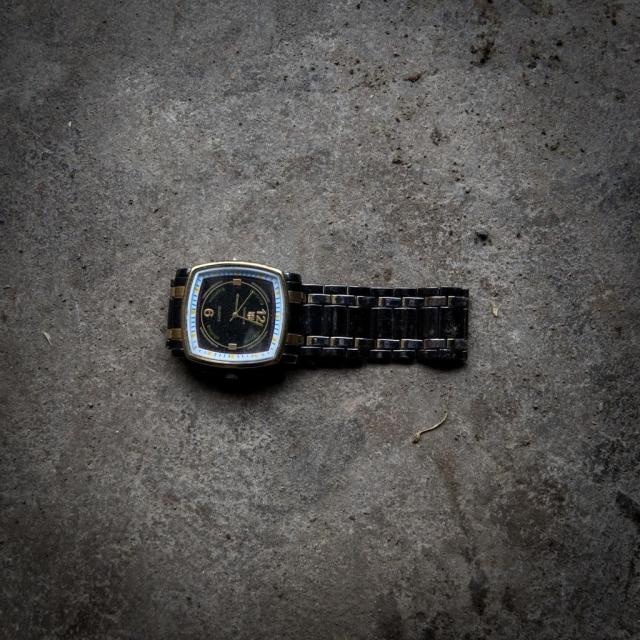Wrist watch: (166, 259, 469, 390)
